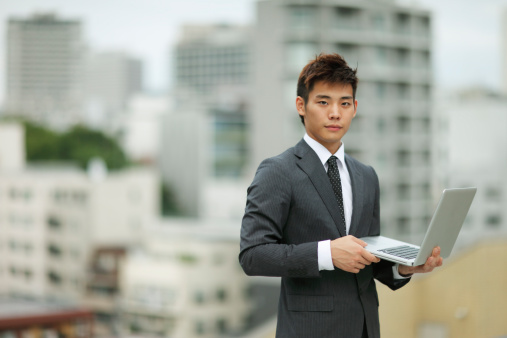em pe: (228, 52, 421, 338)
